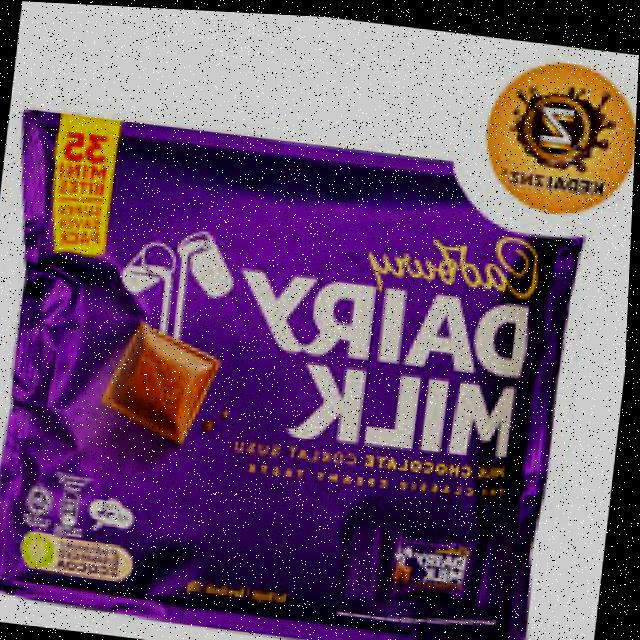cadbury: (0, 174, 567, 640)
